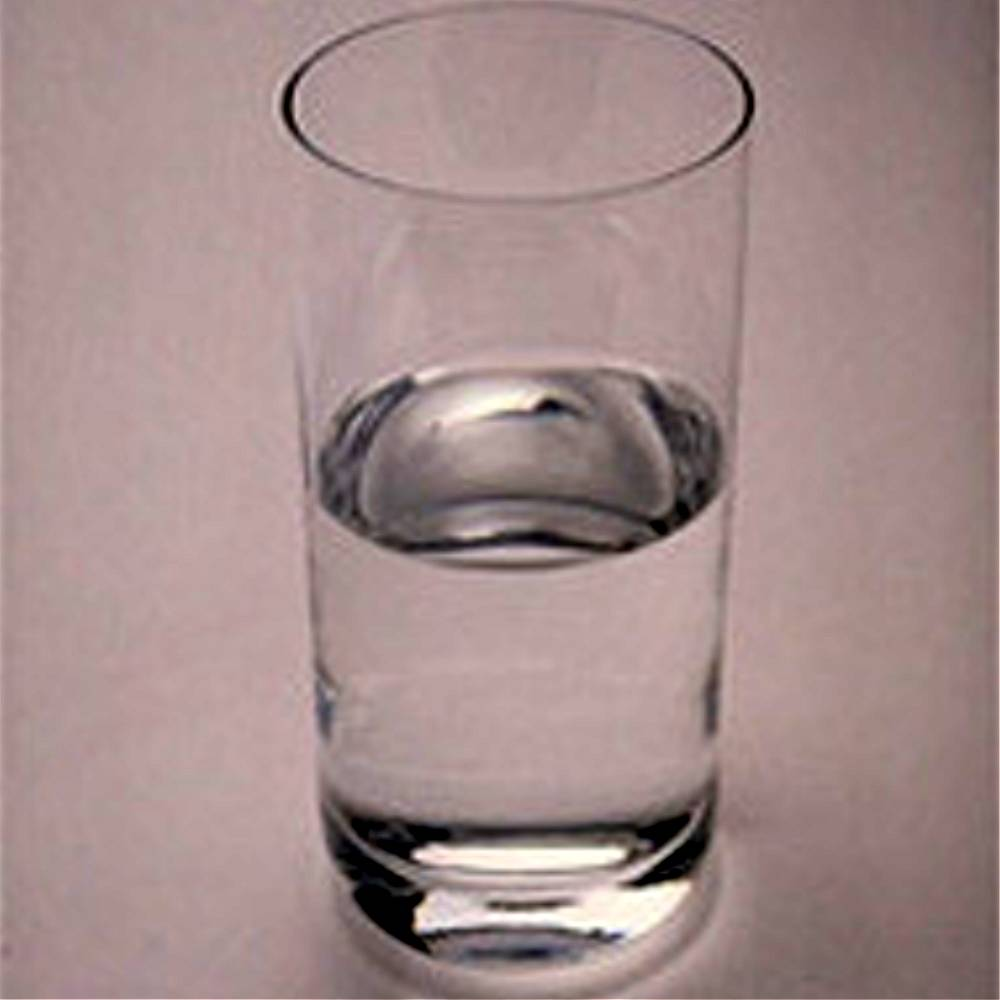glass of water: (312, 110, 700, 932)
